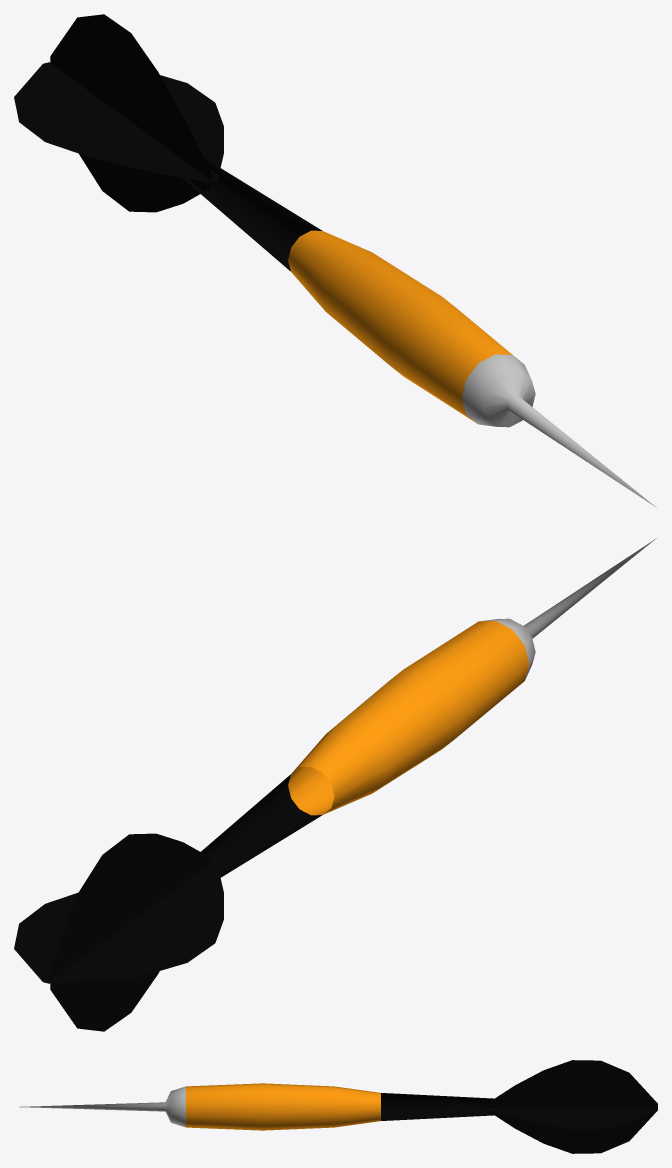
File: Dardo.obj
3 renders of one model, top to bottom at view 1: azimuth 30°, elevation 25°; view 2: azimuth 150°, elevation 25°; view 3: azimuth 270°, elevation 25°, orthographic. The views are drawn at different scales.
Visible parts, largest first — view 1: Dardo; view 2: Dardo; view 3: Dardo.
Part boxes in pixels (x1,y1,x2,y2): Dardo: (14, 14, 656, 507); Dardo: (14, 538, 656, 1031); Dardo: (19, 1060, 657, 1153).
Bounding box in the file's own units: 0.0197 × 0.0197 × 0.1221.
3 materials, 3 textured.
